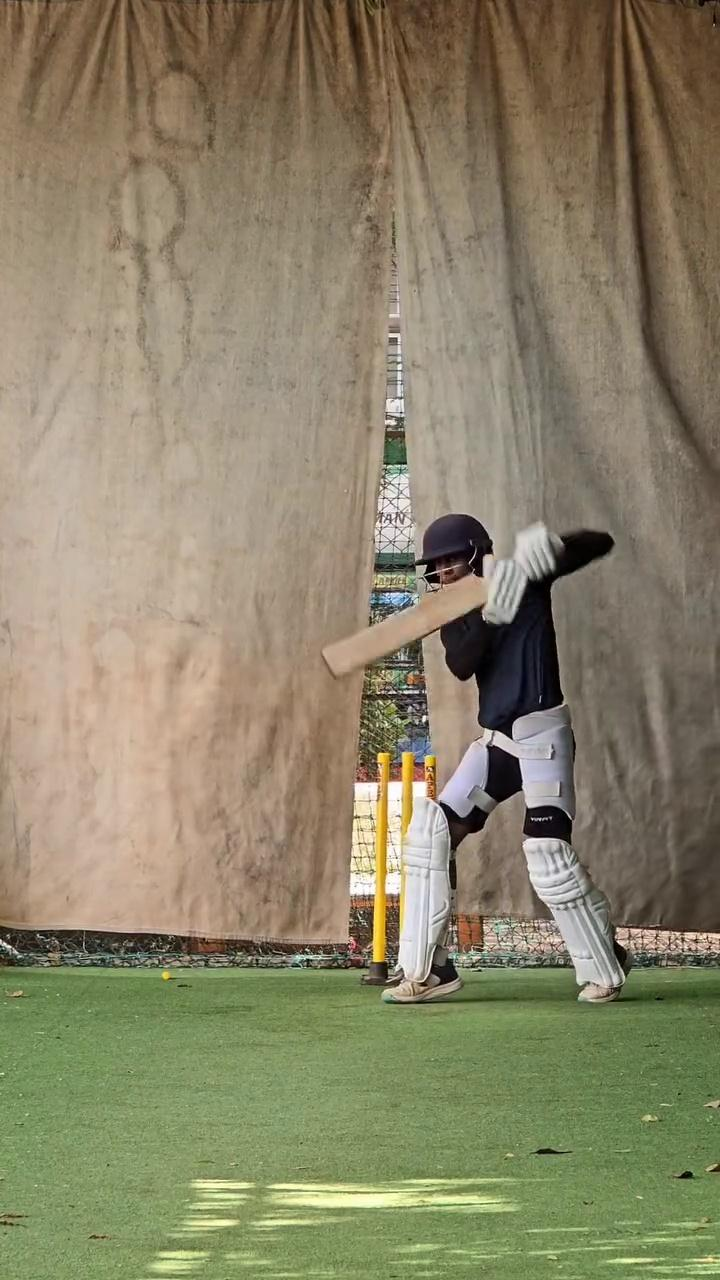bat: (317, 564, 495, 684)
